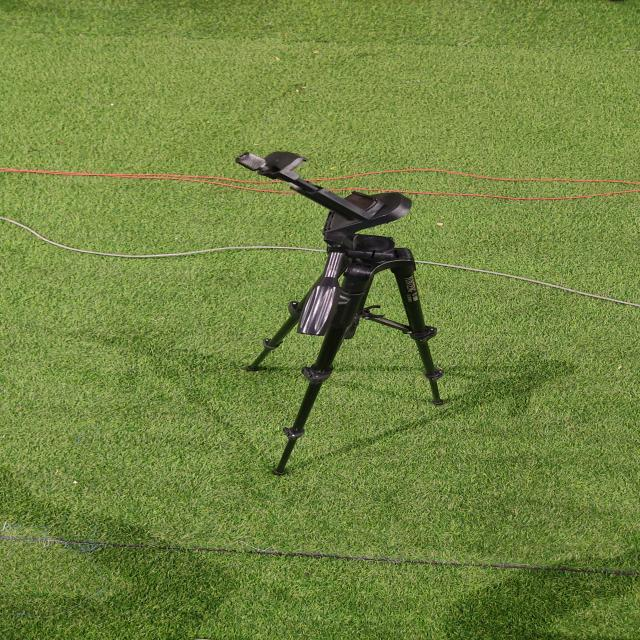Camer Stand: (220, 145, 462, 478)
